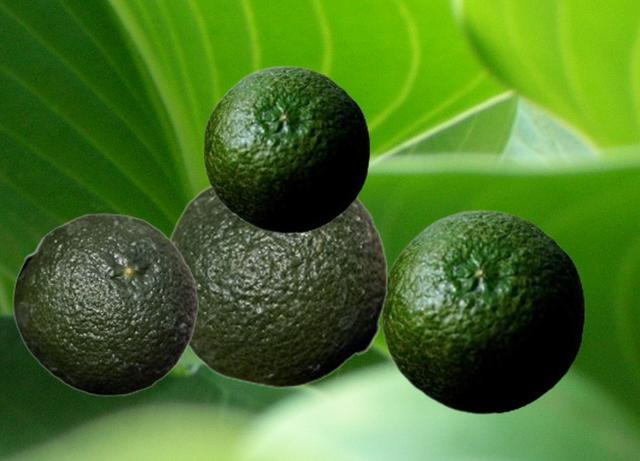calamansi: (167, 183, 387, 387), (380, 209, 584, 414), (12, 213, 198, 395), (202, 65, 369, 233)
